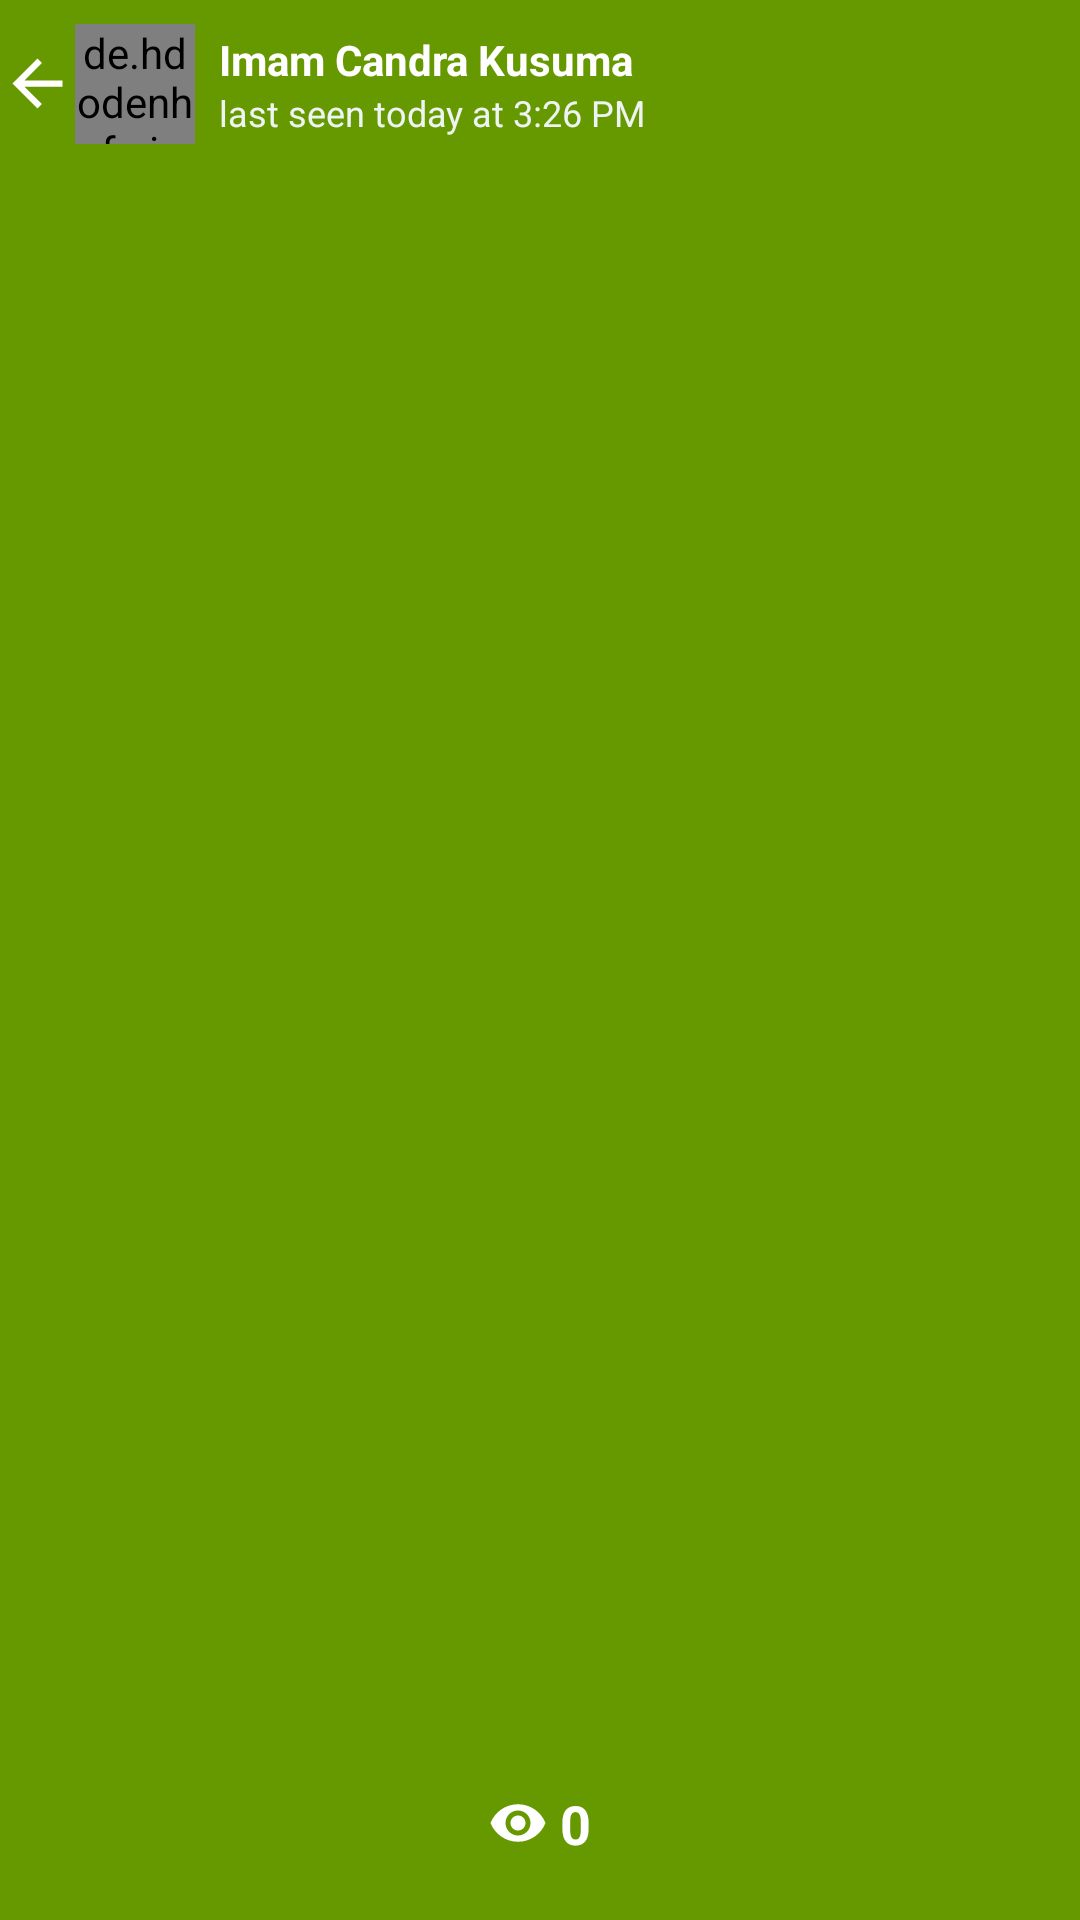

Icons on this 1080px x 1920px Android screen, each with its box as bbox(x1, y1, x2, y2):
arrow back: bbox(12, 58, 63, 109)
visibility: bbox(490, 1804, 546, 1842)
